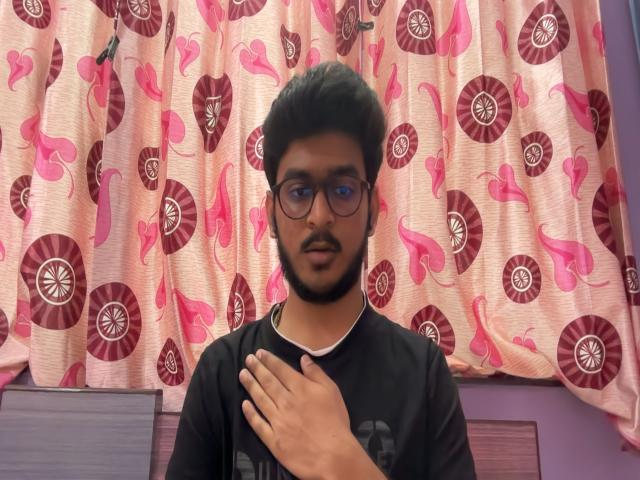Please: (231, 343, 360, 480)
